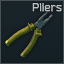Pliers: (0, 0, 64, 64)
